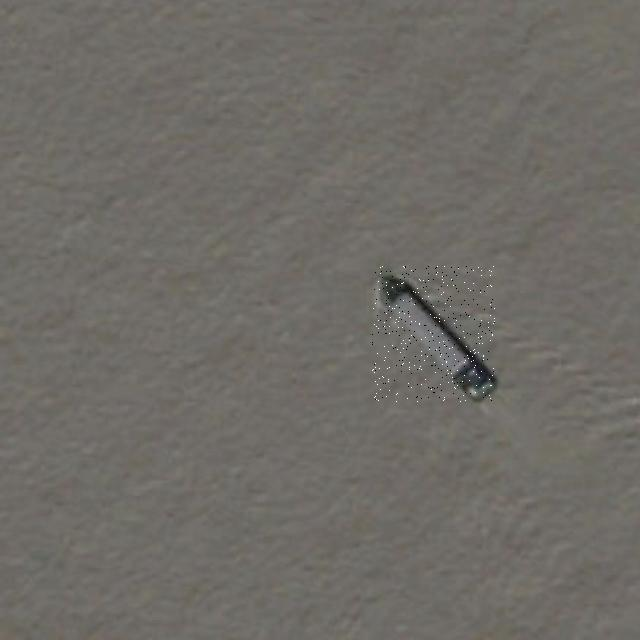boat: (371, 266, 495, 402)
